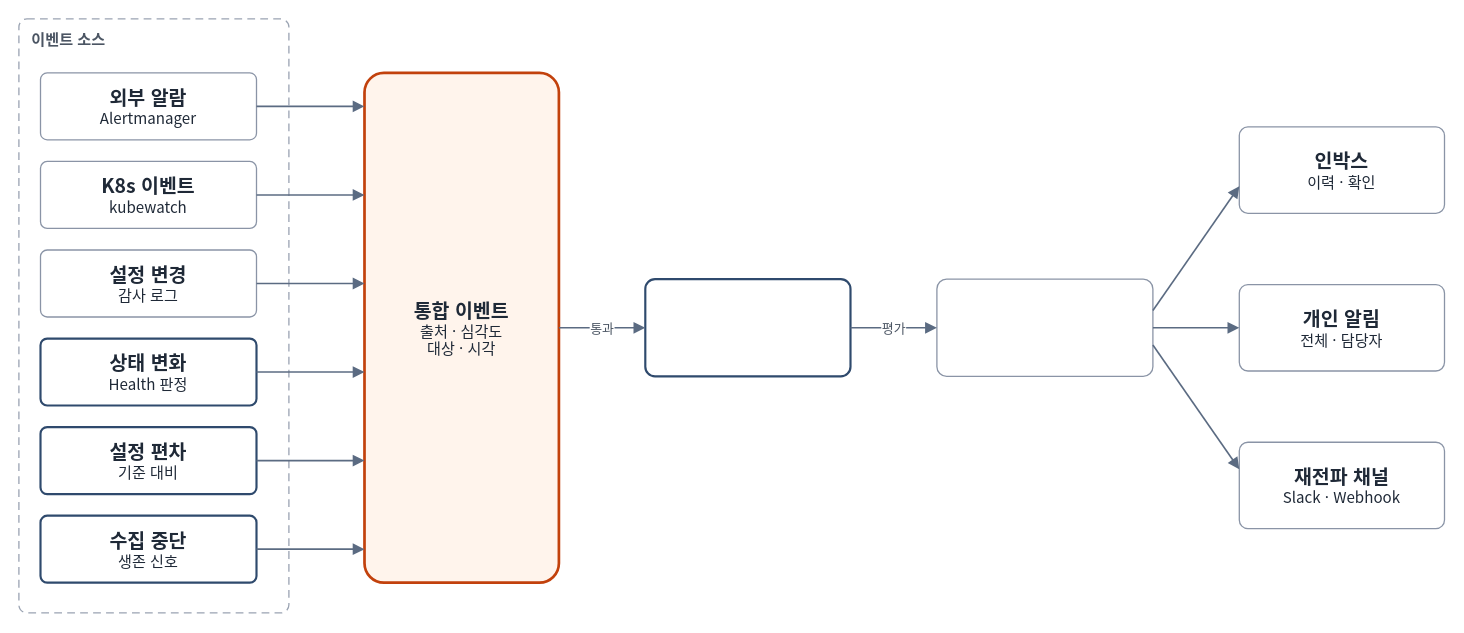
Image size: 1464x633. Some labels were removed from this diagram. Each missing label, with the centre of its shape:
"알림 규칙 우선순위 · 매처 중복 억제" belongs at point (1044, 327).
"유지보수 모드 억제 시간창" belongs at point (747, 327).
